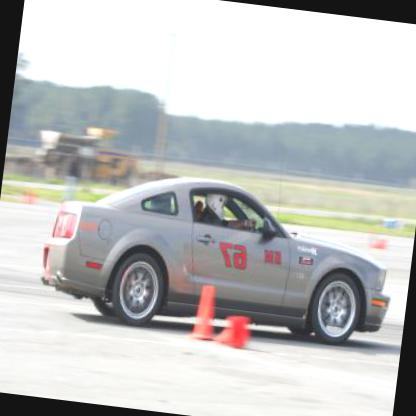car: (37, 158, 404, 354)
